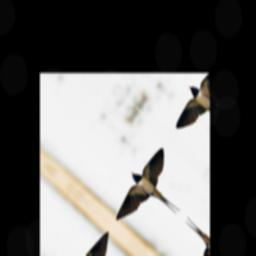Swallow: (105, 138, 201, 254)
